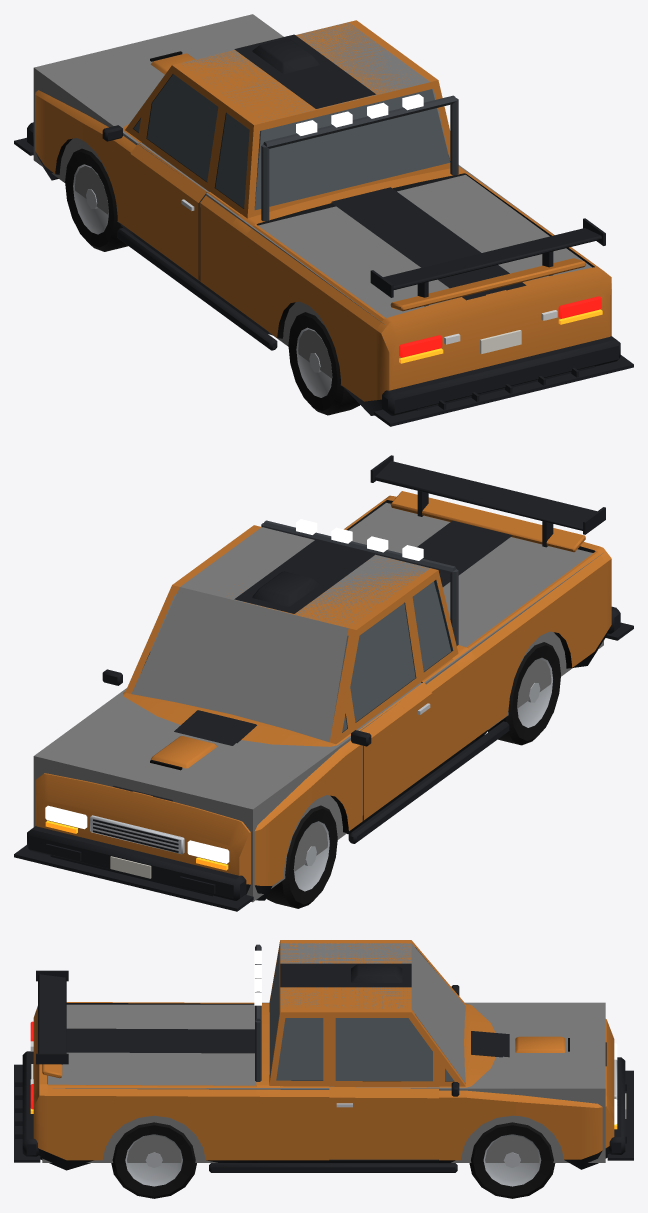
File: pickup.glb
3 renders of one model, top to bottom at view 1: azimuth 30°, elevation 25°; view 2: azimuth 150°, elevation 25°; view 3: azimuth 270°, elevation 25°, orthographic. The views are drawn at different scales.
Visible parts, largest first — view 1: pickup, pickup_Body, pickup_Cabin, pickup_Door_FL, pickup_Wheel_RL, pickup_Wheel_FL; view 2: pickup, pickup_Body, pickup_Door_FL, pickup_Cabin, pickup_Wheel_FL, pickup_Wheel_RL; view 3: pickup, pickup_Body, pickup_Door_FR, pickup_Cabin, pickup_Wheel_RR, pickup_Wheel_FR.
Part boxes in pixels (box(x1,y1,x2,y2)): pickup: box(14, 14, 633, 426); pickup_Body: box(35, 90, 611, 415); pickup_Cabin: box(125, 20, 450, 218); pickup_Door_FL: box(130, 65, 222, 279); pickup_Wheel_RL: box(288, 312, 359, 415); pickup_Wheel_FL: box(65, 148, 127, 251); pickup: box(14, 455, 633, 911); pickup_Body: box(35, 495, 611, 900); pickup_Door_FL: box(346, 593, 432, 819); pickup_Cabin: box(125, 525, 458, 744); pickup_Wheel_FL: box(266, 805, 337, 908); pickup_Wheel_RL: box(488, 642, 560, 745); pickup: box(14, 943, 633, 1172); pickup_Body: box(30, 944, 617, 1170); pickup_Door_FR: box(329, 1012, 438, 1159); pickup_Cabin: box(269, 940, 465, 1086); pickup_Wheel_RR: box(111, 1122, 196, 1198); pickup_Wheel_FR: box(469, 1122, 555, 1198).
Size of what is drawn, in the model's own units: 2.25 by 1.89 by 5.66.
